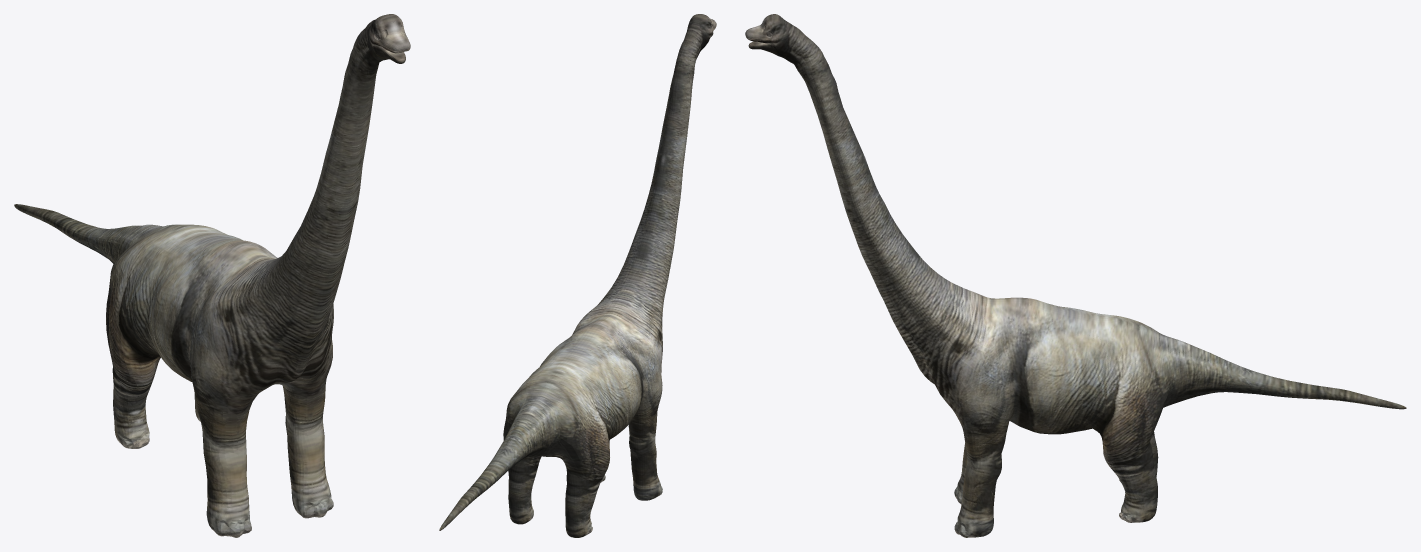
File: Brachiosaurus.fbx
The picture shows the model from 3 angles, left to right: view 1: azimuth 30°, elevation 25°; view 2: azimuth 150°, elevation 25°; view 3: azimuth 270°, elevation 25°; orthographic projection. The views are drawn at different scales.
Visible parts, largest first — view 1: Brachiosaurus.002; view 2: Brachiosaurus.002; view 3: Brachiosaurus.002.
Part boxes in pixels (box(x1,y1,x2,y2)): Brachiosaurus.002: box(14, 14, 410, 537); Brachiosaurus.002: box(439, 14, 716, 537); Brachiosaurus.002: box(745, 14, 1406, 537).
Bounding box in the file's own units: 144 × 576 × 687.
Materials: 1 (1 with a texture image).
